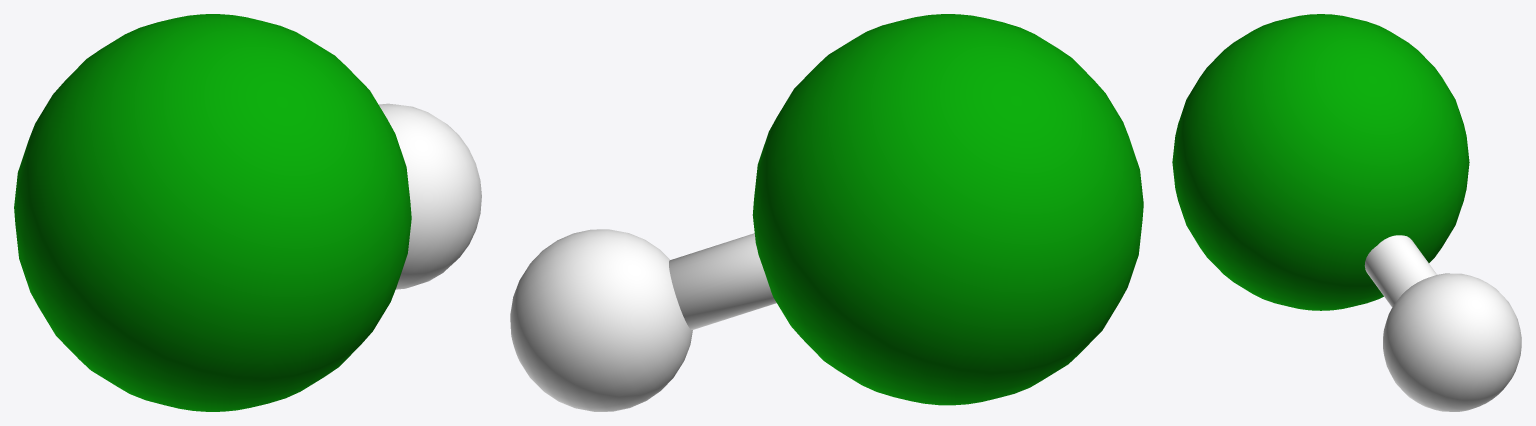
The model's file is HCLF.blendd.fbx.
The picture shows the model from 3 angles, left to right: view 1: azimuth 30°, elevation 25°; view 2: azimuth 150°, elevation 25°; view 3: azimuth 270°, elevation 25°; orthographic projection. The views are drawn at different scales.
Parts seen in each view (by area): view 1: bond.002; view 2: bond.002; view 3: bond.002.
Boxes of the visible parts, x1,y1,x2,y2 form: bond.002: (14,14,481,411); bond.002: (510,14,1143,411); bond.002: (1172,14,1521,411).
Size of the model in its own units: 288 by 201 by 226.
